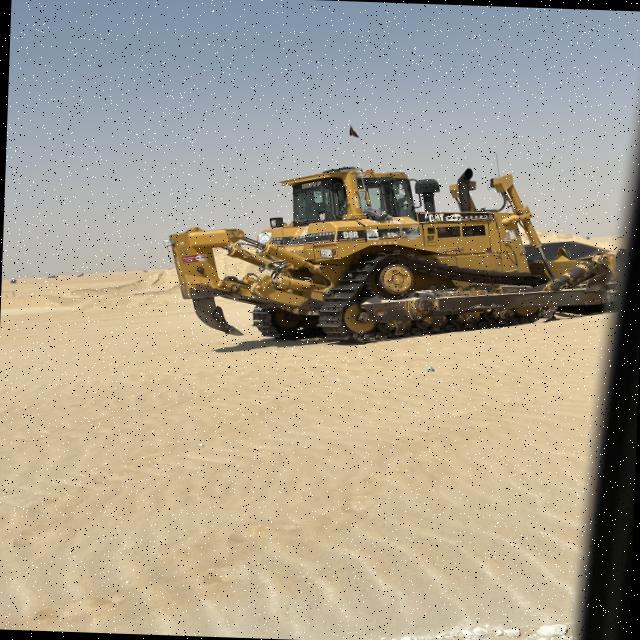Bulldozer: (162, 118, 624, 370)
